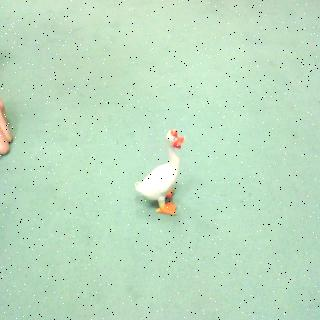duck: (135, 127, 188, 217)
